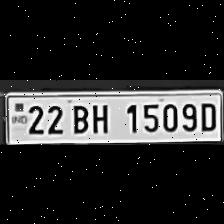0: (160, 99, 178, 130)
1: (119, 100, 138, 134)
2: (25, 101, 45, 135), (44, 101, 64, 135)
5: (138, 99, 160, 133)
9: (180, 99, 198, 130)
B: (68, 100, 90, 134)
D: (198, 99, 218, 130)
H: (88, 100, 112, 134)
